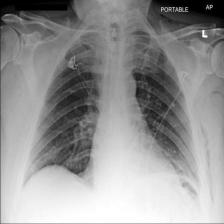normal: (19, 18, 203, 200)
